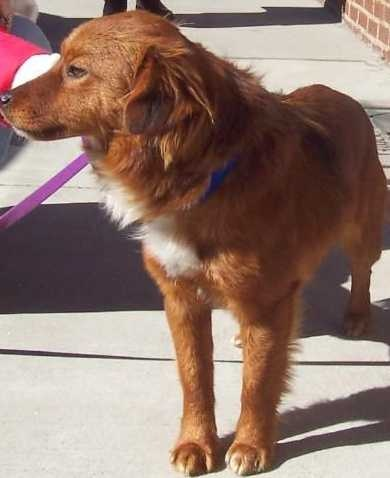dog: (17, 17, 380, 424)
